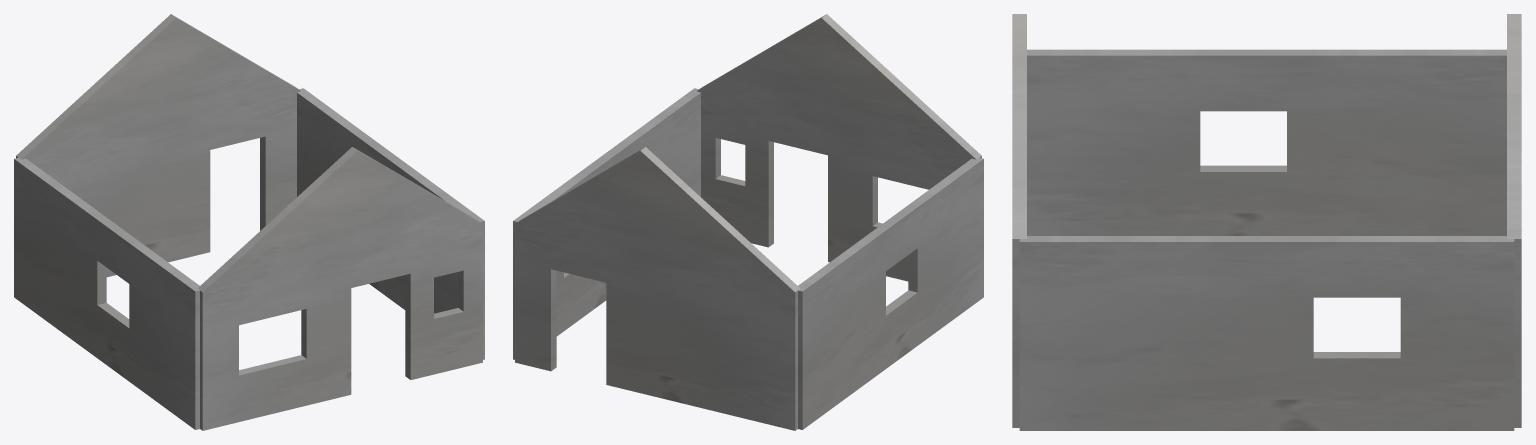
File: BW_Bakery02_Plaster.fbx
The picture shows the model from 3 angles, left to right: view 1: azimuth 30°, elevation 25°; view 2: azimuth 150°, elevation 25°; view 3: azimuth 270°, elevation 25°; orthographic projection. The views are drawn at different scales.
Visible parts, largest first — view 1: BW_Bakery02_Plaster; view 2: BW_Bakery02_Plaster; view 3: BW_Bakery02_Plaster.
Part boxes in pixels (x1,y1,x2,y2): BW_Bakery02_Plaster: (14,14,484,430); BW_Bakery02_Plaster: (513,14,983,430); BW_Bakery02_Plaster: (1012,14,1521,430).
Size of the model in its own units: 6.82 by 5.46 by 7.62.
